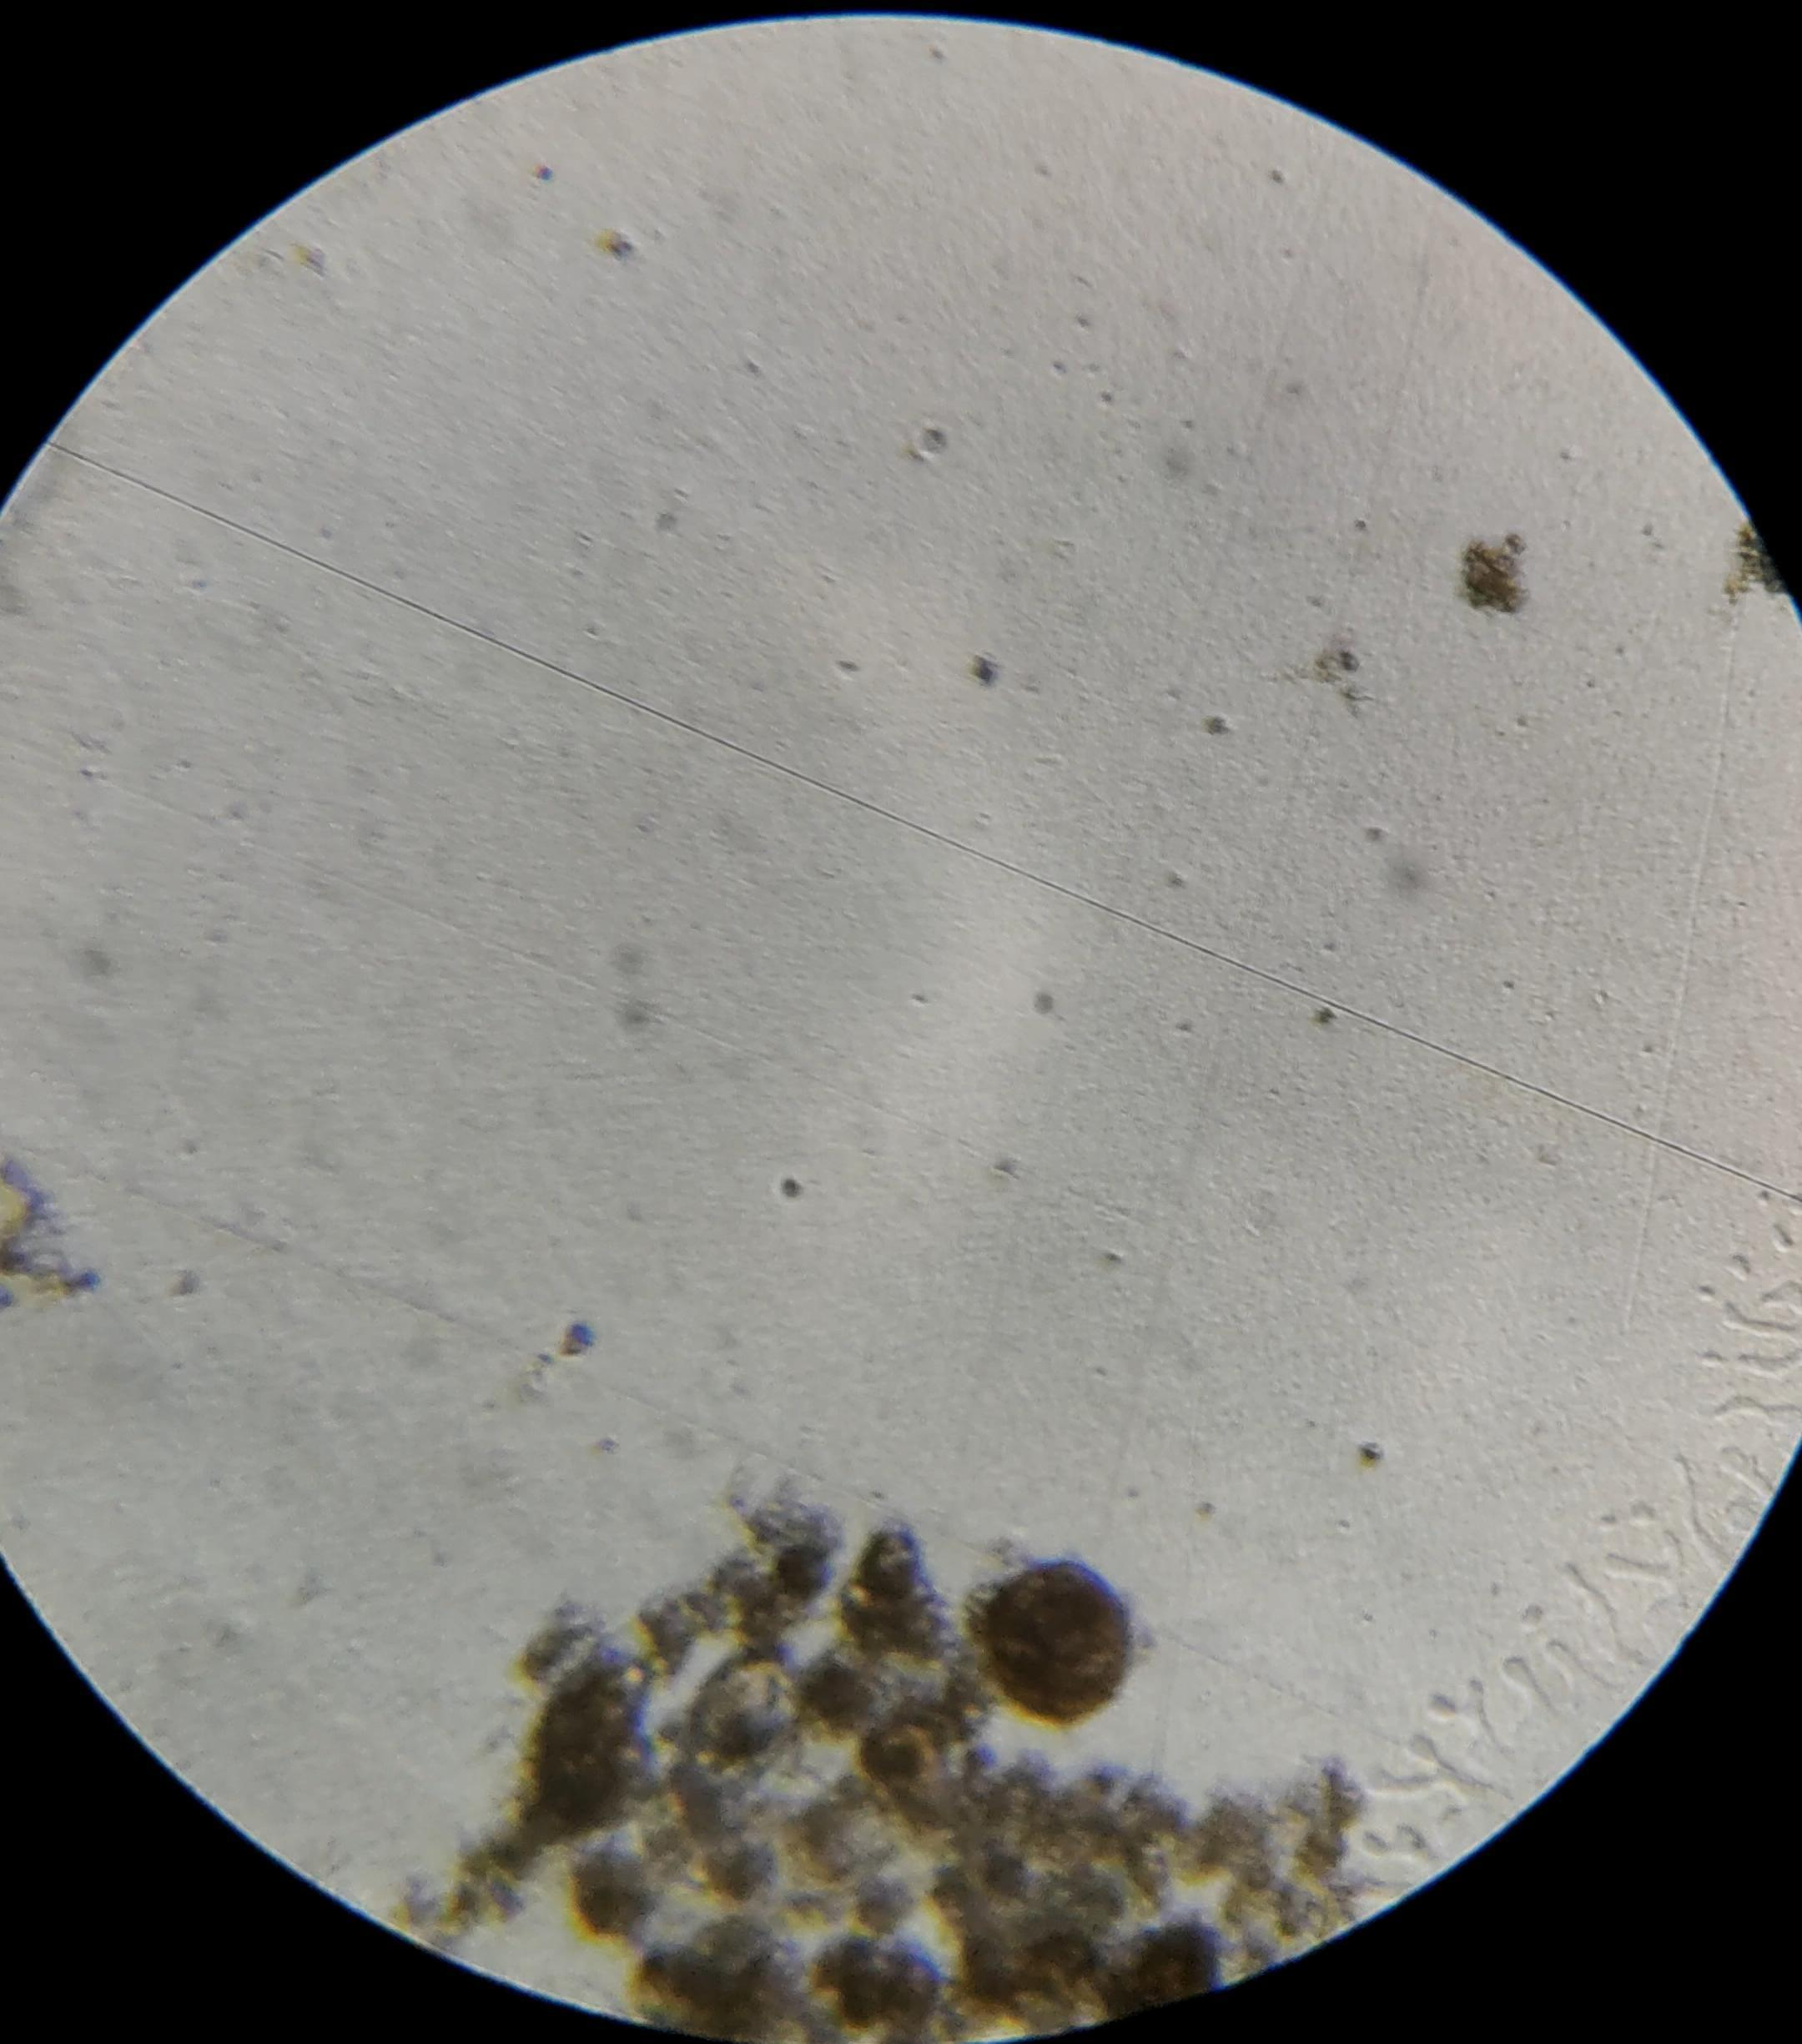Arcella: (990, 1566, 1127, 1717)
Mo: (678, 1604, 819, 1837)
